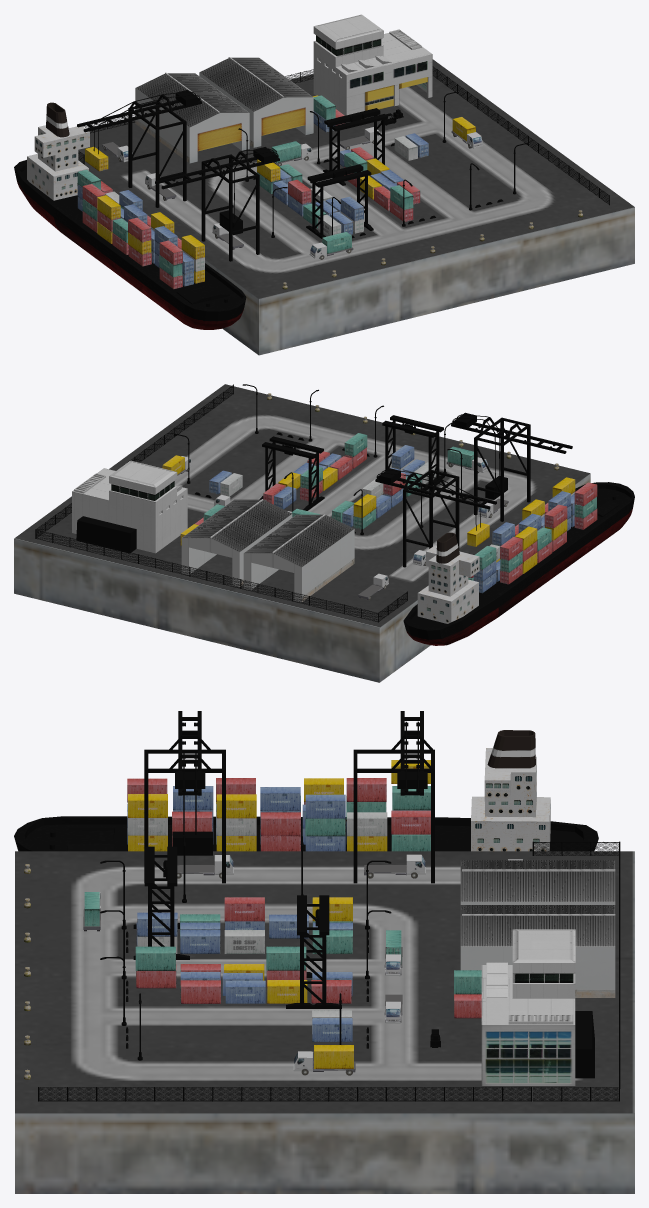
Rendered from dockyard.gltf.
The picture shows the model from 3 angles, top to bottom: view 1: azimuth 30°, elevation 25°; view 2: azimuth 150°, elevation 25°; view 3: azimuth 270°, elevation 25°; orthographic projection. The views are drawn at different scales.
Parts seen in each view (by area): view 1: dockyard_static_scene; view 2: dockyard_static_scene; view 3: dockyard_static_scene.
Part boxes in pixels (x1=…): dockyard_static_scene: x1=14, y1=14, x2=634, y2=355; dockyard_static_scene: x1=14, y1=384, x2=634, y2=682; dockyard_static_scene: x1=14, y1=711, x2=634, y2=1193.
Size of the model in its own units: 117 by 37.81 by 102.
28 materials, 12 textured.
